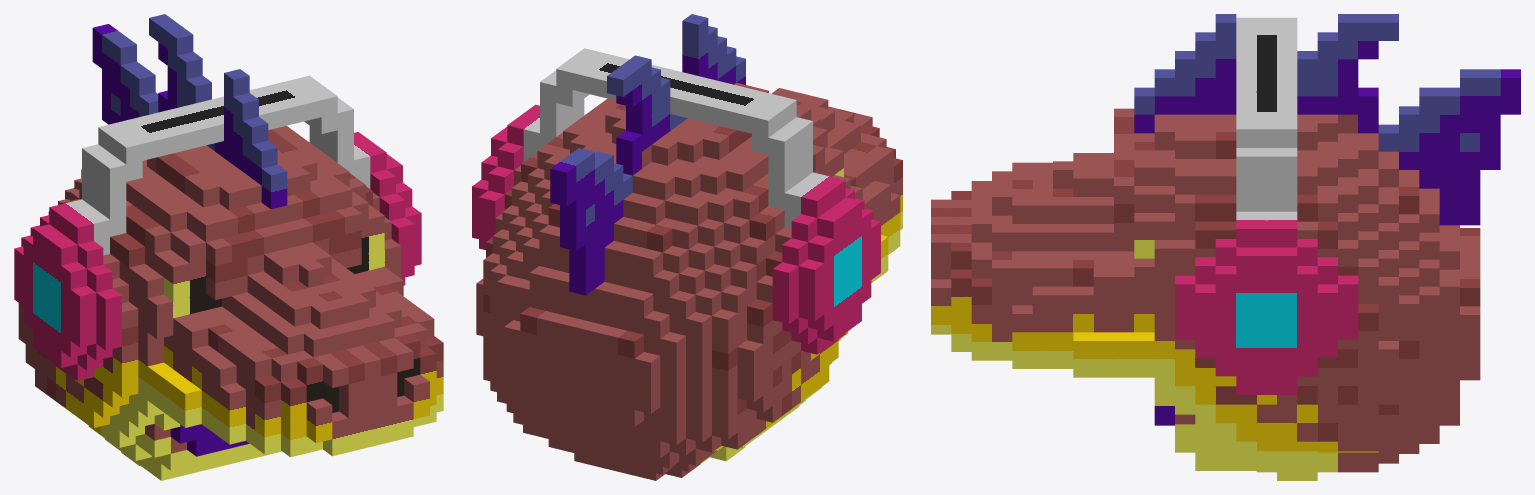
Rendered from headphones.gltf.
3 renders of one model, left to right at view 1: azimuth 30°, elevation 25°; view 2: azimuth 150°, elevation 25°; view 3: azimuth 270°, elevation 25°, orthographic. The views are drawn at different scales.
Visible parts, largest first — view 1: 16_Zilla_Head_Headphones-Mesh; view 2: 16_Zilla_Head_Headphones-Mesh; view 3: 16_Zilla_Head_Headphones-Mesh.
Part boxes in pixels (x1,y1,x2,y2): 16_Zilla_Head_Headphones-Mesh: [14, 14, 443, 480]; 16_Zilla_Head_Headphones-Mesh: [472, 14, 902, 480]; 16_Zilla_Head_Headphones-Mesh: [931, 14, 1520, 480].
Size of the model in its own units: 21 by 23 by 29.
1 material, 1 textured.
